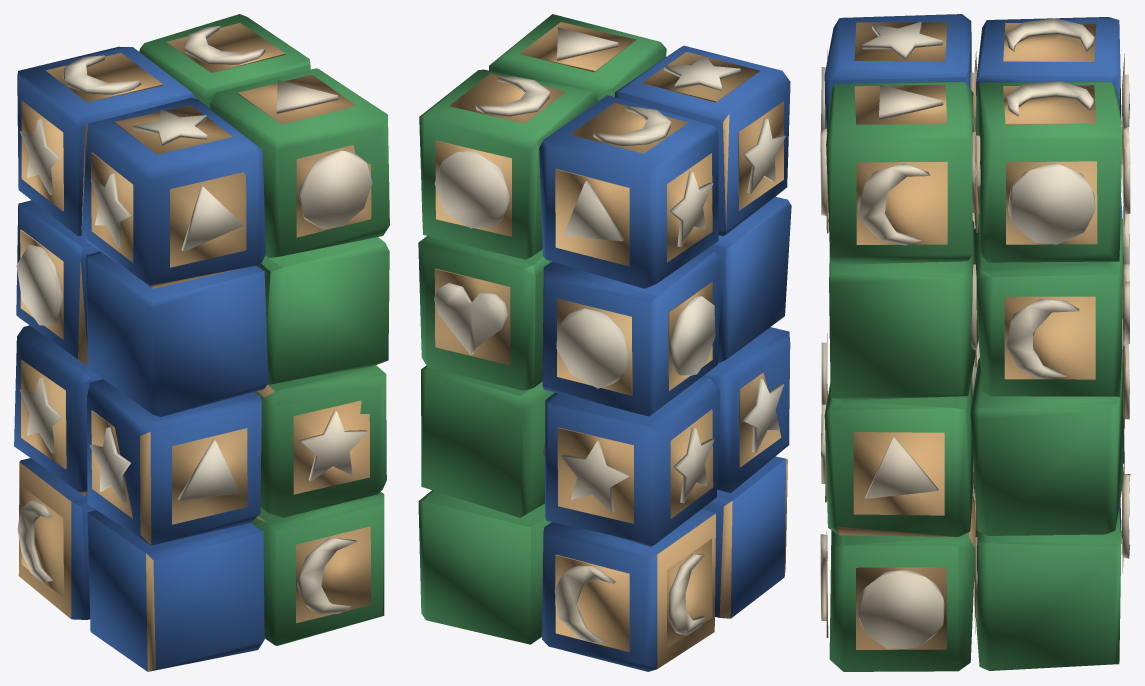
Rendered from den_castle_keep_lod2.glb.
3 renders of one model, left to right at view 1: azimuth 30°, elevation 25°; view 2: azimuth 150°, elevation 25°; view 3: azimuth 270°, elevation 25°, orthographic. The views are drawn at different scales.
Parts seen in each view (by area): view 1: den_castle_keep.001; view 2: den_castle_keep.001; view 3: den_castle_keep.001.
Boxes of the visible parts, x1,y1,x2,y2 form: den_castle_keep.001: [14, 14, 389, 671]; den_castle_keep.001: [418, 14, 791, 671]; den_castle_keep.001: [820, 14, 1130, 671].
Bounding box in the file's own units: 9.37 × 18.19 × 9.36.
